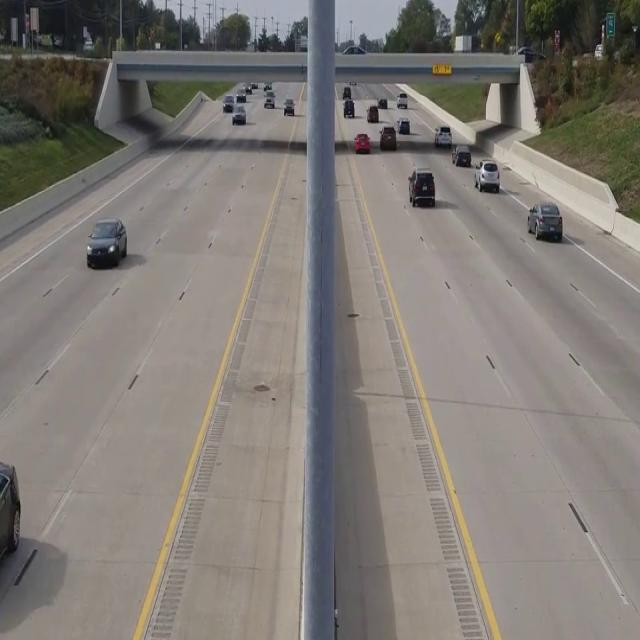car: (86, 219, 127, 268), (527, 202, 563, 240), (408, 168, 435, 206), (475, 158, 499, 192)
